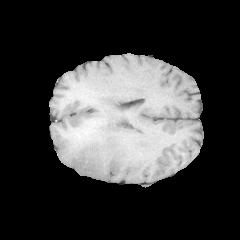glioma: (60, 97, 167, 178)
